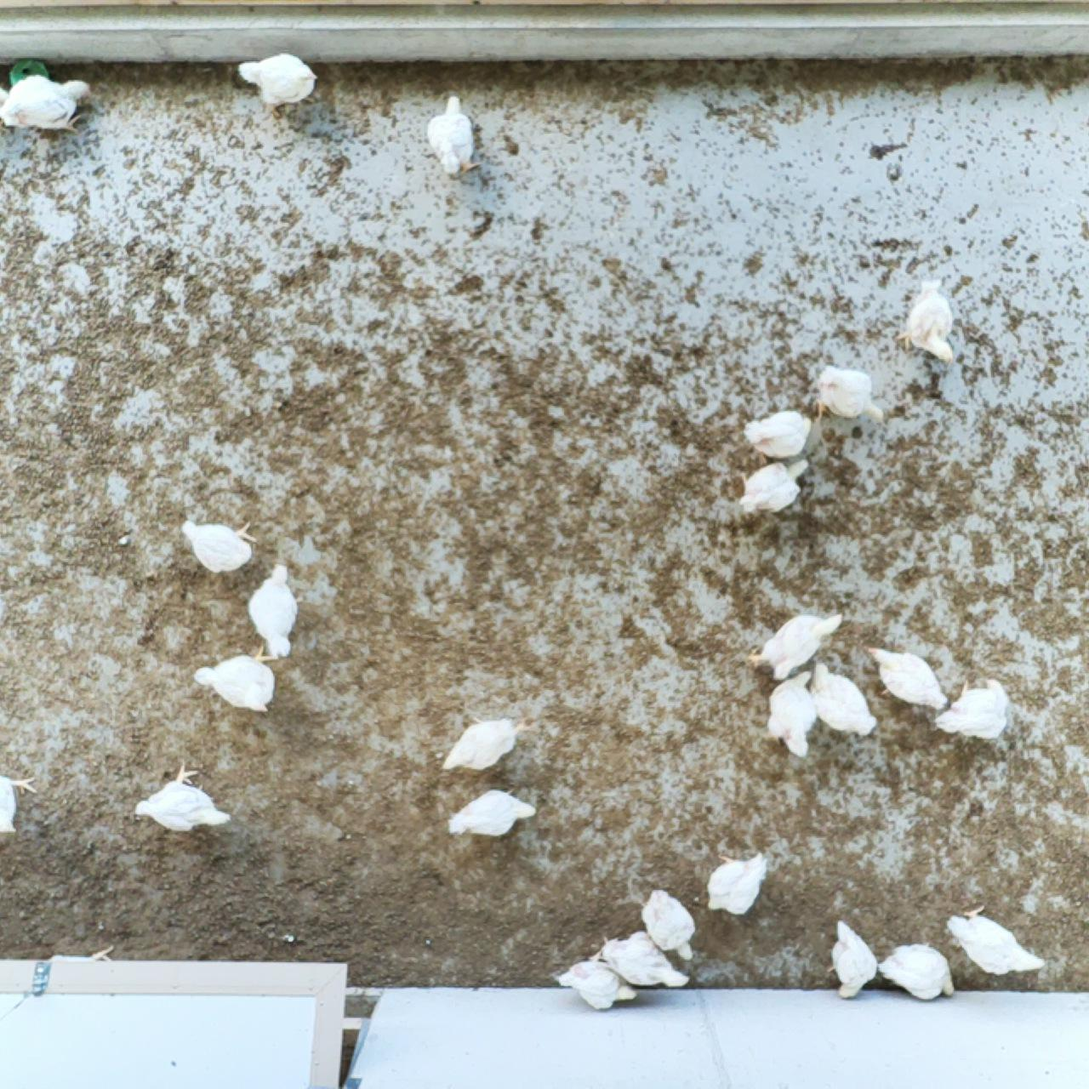chicken: (745, 608, 850, 682), (132, 762, 229, 836), (945, 903, 1046, 974), (0, 70, 93, 139), (865, 641, 952, 712), (596, 928, 692, 991), (192, 645, 279, 713), (440, 716, 538, 776), (246, 559, 300, 665), (874, 937, 960, 1003), (931, 677, 1016, 743), (235, 53, 319, 116), (703, 845, 774, 919), (812, 660, 879, 737), (900, 277, 957, 367), (554, 955, 638, 1014), (446, 789, 541, 841), (810, 364, 887, 428), (425, 96, 482, 180), (825, 918, 882, 1002), (765, 666, 817, 758), (736, 458, 812, 517), (179, 516, 254, 573), (640, 887, 698, 960), (741, 403, 811, 461), (0, 767, 38, 842)
